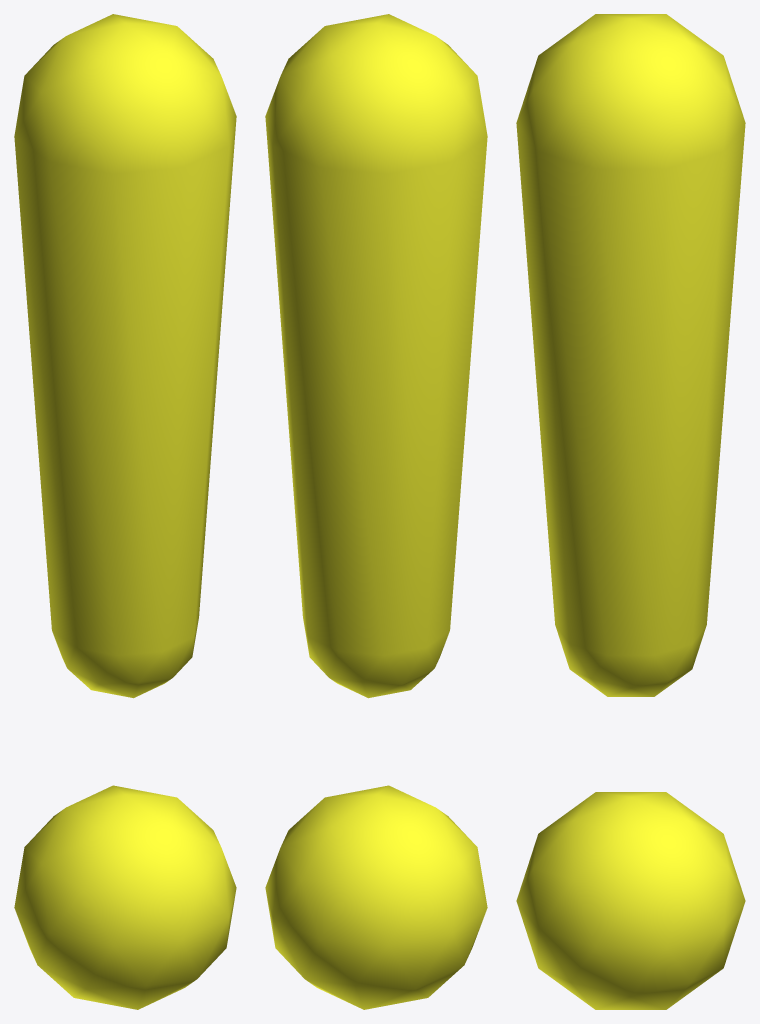
The model's file is exclamation_mark.fbx.
3 views of the same model, side by side, from view 1: azimuth 30°, elevation 25°; view 2: azimuth 150°, elevation 25°; view 3: azimuth 270°, elevation 25° (orthographic).
Parts seen in each view (by area): view 1: ExclamationMark; view 2: ExclamationMark; view 3: ExclamationMark.
Part boxes in pixels (x1=…): ExclamationMark: x1=14, y1=14, x2=236, y2=1009; ExclamationMark: x1=265, y1=14, x2=487, y2=1009; ExclamationMark: x1=516, y1=14, x2=745, y2=1009.
Size of the model in its own units: 16.09 by 80.31 by 16.92.
